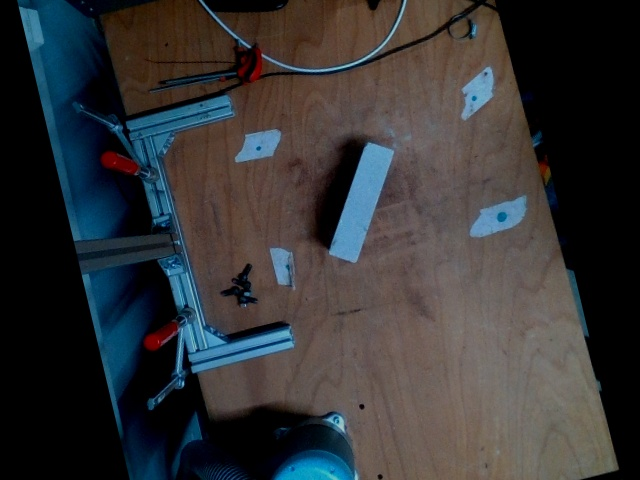brick-side: (328, 142, 396, 263)
